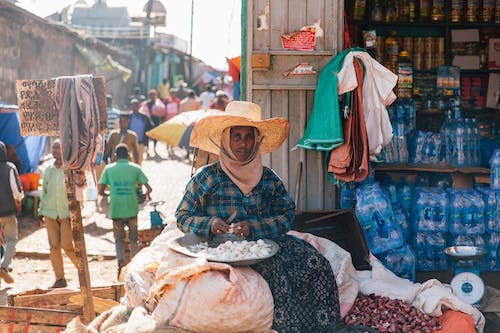knife: (224, 210, 237, 224)
